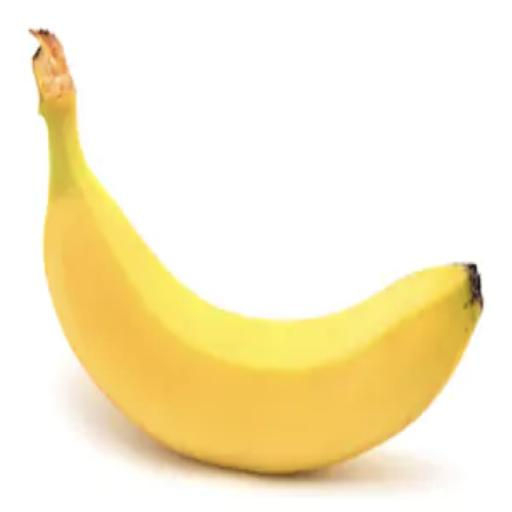banana: (32, 30, 482, 474)
